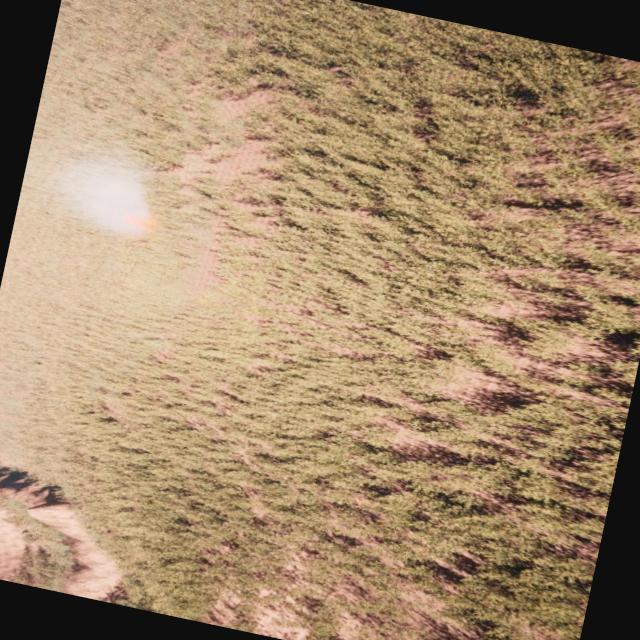fire: (115, 210, 147, 229)
smoke: (34, 144, 155, 236)
